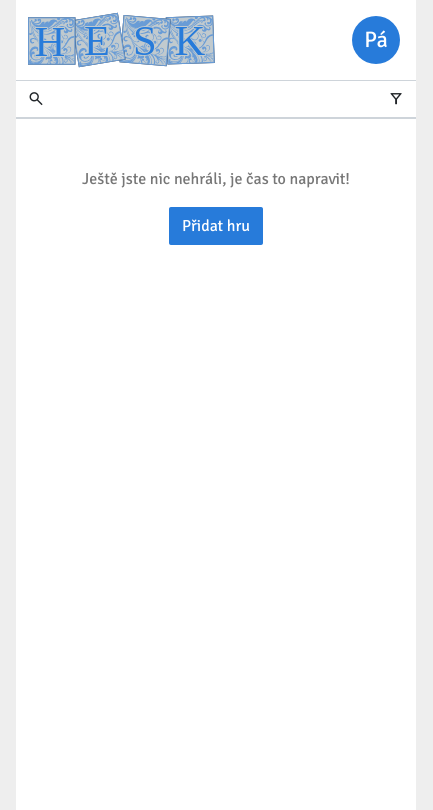
Test: App gating › switches the party in the menu and offers creating a new one like the old prototype
This screenshot has width=433, height=810.
Expected: the search field named "Hledat hru" is shown, [16,80,416,118]
Click the button with aria-label "Menu – Pátek" at (376, 40), box [352,16,400,64]
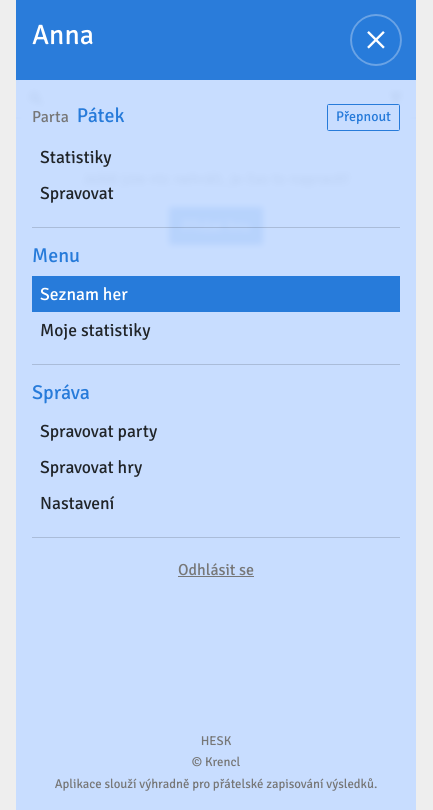
Expected: the text "Parta" is shown, [32,108,69,127]
Click the button "Přepnout" at (364, 117), box [327,104,400,131]
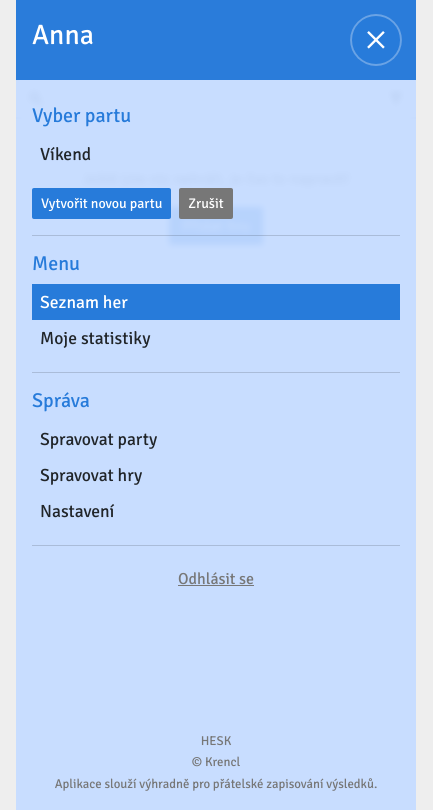
Expected: the heading "Vyber partu" is shown, [32,103,131,128]
Expected: the button "Víkend" is shown, [32,136,400,172]
Click the button "Zrušit" at (206, 204), box [179,188,232,219]
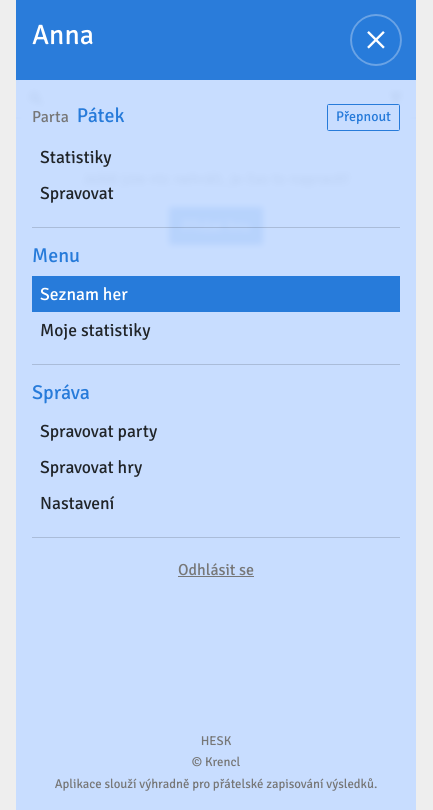
Expected: the button "Přepnout" is shown, [327,104,400,131]
